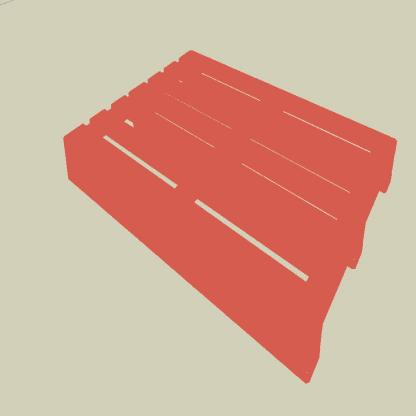BoxFace: (60, 42, 399, 394)
